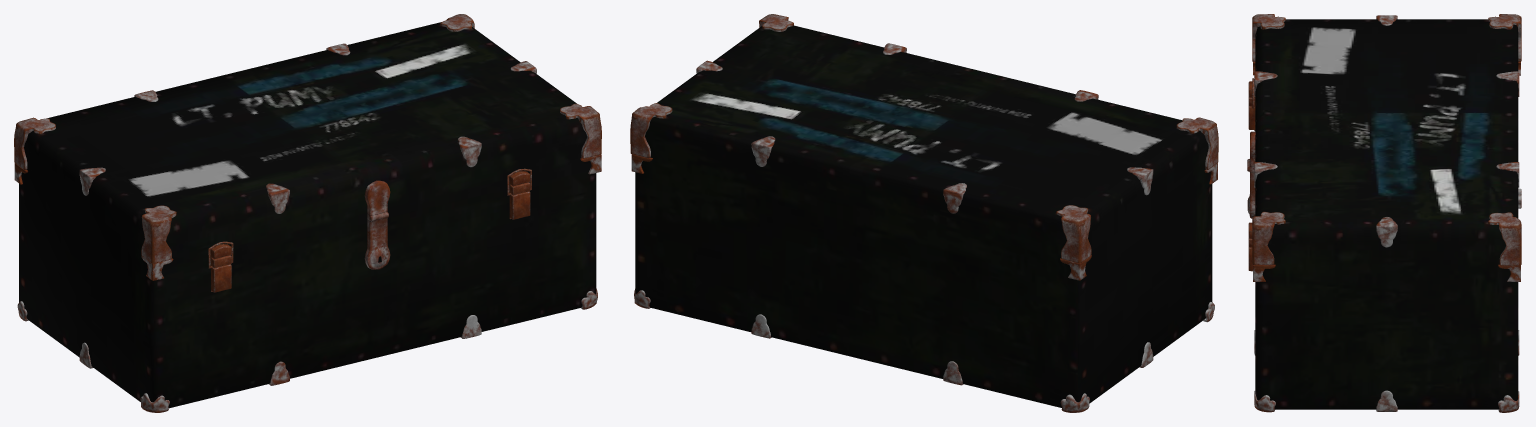
Rendered from footlocker-trunk.glb.
3 renders of one model, left to right at view 1: azimuth 30°, elevation 25°; view 2: azimuth 150°, elevation 25°; view 3: azimuth 270°, elevation 25°, orthographic. The views are drawn at different scales.
Visible parts, largest first — view 1: Object_2, Object_4, Object_6, Object_3, Object_10, Object_5, Object_7, Object_8, Object_11, Object_9; view 2: Object_2, Object_5, Object_9, Object_4, Object_10, Object_7, Object_8; view 3: Object_2, Object_4, Object_5, Object_9, Object_7, Object_6, Object_3, Object_8, Object_10.
Part boxes in pixels (<box>): Object_2: <box>19,22,596,408</box>; Object_4: <box>141,103,601,263</box>; Object_6: <box>208,168,531,292</box>; Object_3: <box>364,180,390,269</box>; Object_10: <box>79,136,481,385</box>; Object_5: <box>14,14,474,170</box>; Object_7: <box>17,288,597,412</box>; Object_8: <box>14,154,601,280</box>; Object_11: <box>79,167,481,338</box>; Object_9: <box>86,43,536,192</box>; Object_2: <box>635,25,1212,407</box>; Object_5: <box>630,103,1091,263</box>; Object_9: <box>696,45,1148,338</box>; Object_4: <box>759,14,1218,169</box>; Object_10: <box>883,43,1153,385</box>; Object_7: <box>634,289,1214,412</box>; Object_8: <box>631,154,1217,280</box>; Object_2: <box>1255,19,1518,409</box>; Object_4: <box>1252,14,1285,265</box>; Object_5: <box>1488,14,1521,265</box>; Object_9: <box>1256,15,1519,411</box>; Object_7: <box>1254,188,1521,412</box>; Object_6: <box>1248,78,1255,271</box>; Object_3: <box>1247,131,1255,218</box>; Object_8: <box>1253,61,1520,281</box>; Object_10: <box>1254,71,1277,187</box>.
Bounding box in the file's own units: 0.9 × 0.3684 × 0.4898.
7 materials, 7 textured.
